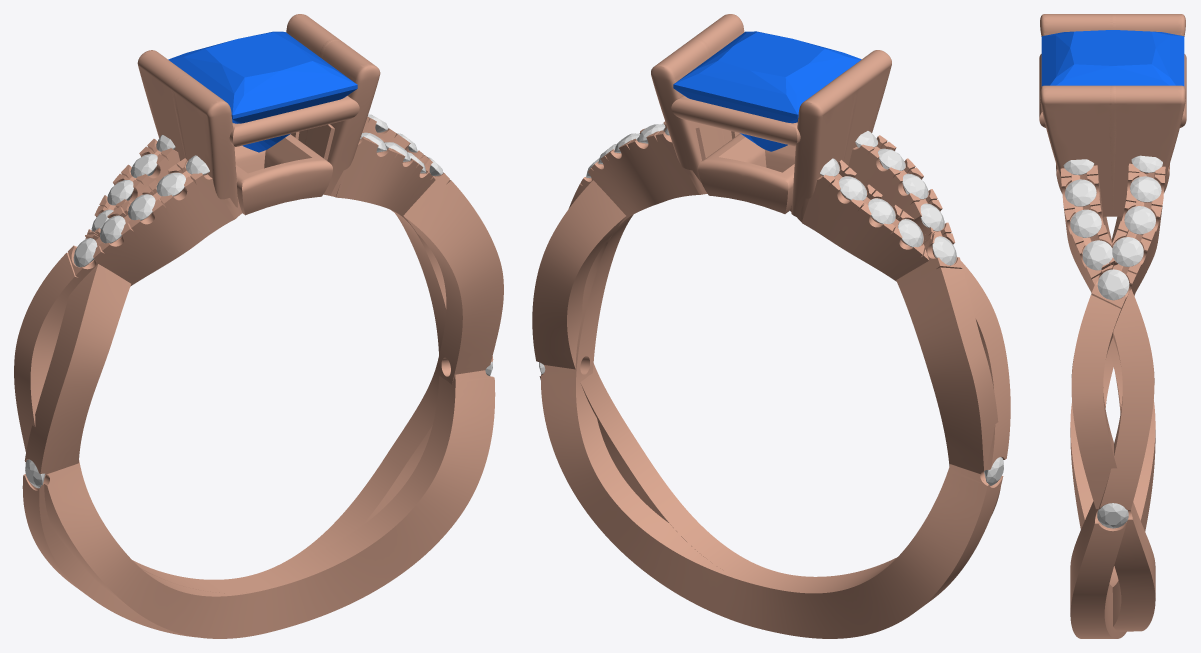
File: bluesapphire-princess-rosegold-halfmoonbezel-twist-sidestones.glb
3 views of the same model, side by side, from view 1: azimuth 30°, elevation 25°; view 2: azimuth 150°, elevation 25°; view 3: azimuth 270°, elevation 25° (orthographic).
Parts seen in each view (by area): view 1: metal.003, stone; view 2: metal.003, stone; view 3: metal.003, stone, side.015, side.016, side.017, side.012, side.011, side.013, side.018, side.010, side.019, side.014.
Boxes of the visible parts, <box> form: metal.003: <box>14,14,503,638</box>; stone: <box>168,31,357,152</box>; metal.003: <box>532,14,1010,638</box>; stone: <box>673,31,861,151</box>; metal.003: <box>1039,14,1186,638</box>; stone: <box>1041,30,1184,86</box>; side.015: <box>1097,269,1129,300</box>; side.016: <box>1112,237,1143,266</box>; side.017: <box>1124,206,1155,234</box>; side.012: <box>1070,209,1101,237</box>; side.011: <box>1082,240,1113,270</box>; side.013: <box>1065,179,1096,206</box>; side.018: <box>1130,176,1161,202</box>; side.010: <box>1097,503,1128,528</box>; side.019: <box>1131,155,1162,172</box>; side.014: <box>1063,159,1094,175</box>.
Size of the model in its own units: 19.97 by 23.65 by 5.6.
